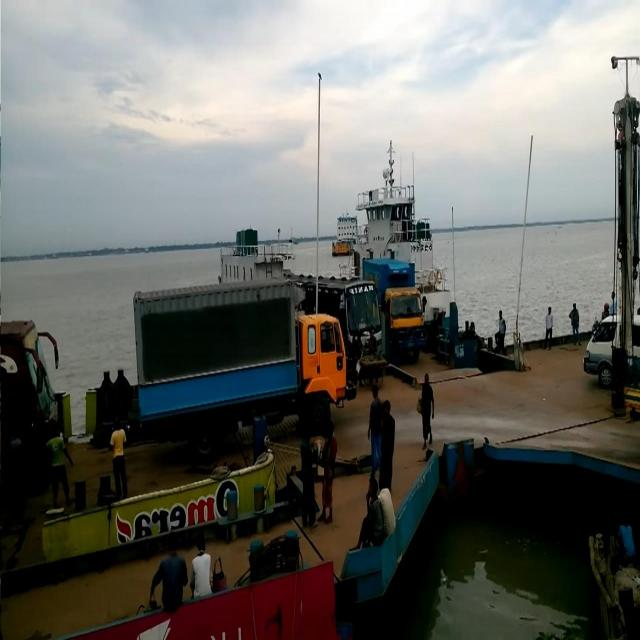bus: (0, 301, 74, 516), (334, 263, 386, 379)
microbus: (577, 304, 640, 388)
truck: (125, 276, 347, 453), (381, 252, 426, 363)
